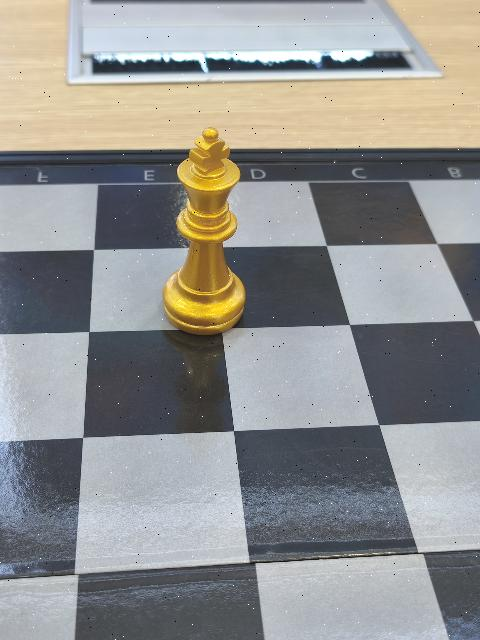black_king: (159, 127, 252, 331)
